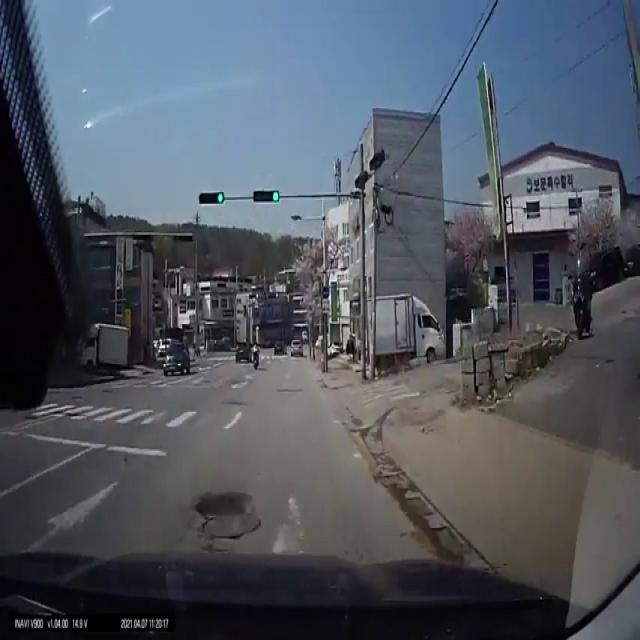Pothole: (194, 483, 256, 521)
